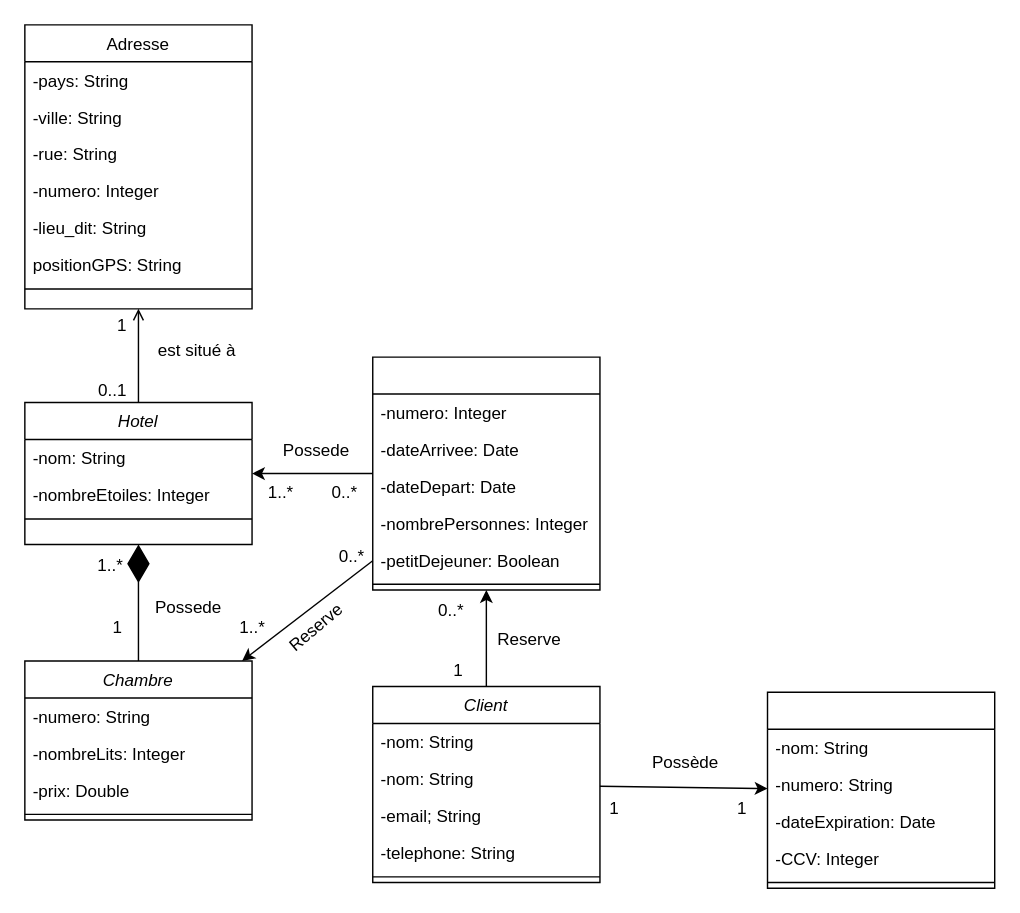
This 1020x913 diagram has some shape labels left out. The shapes that lost their labels are listed below. From the top down, each one's box as (x1, y1, x2, y2) in pixels, then its label:
(371, 356, 600, 590): Reservation
(766, 691, 995, 888): Carte
